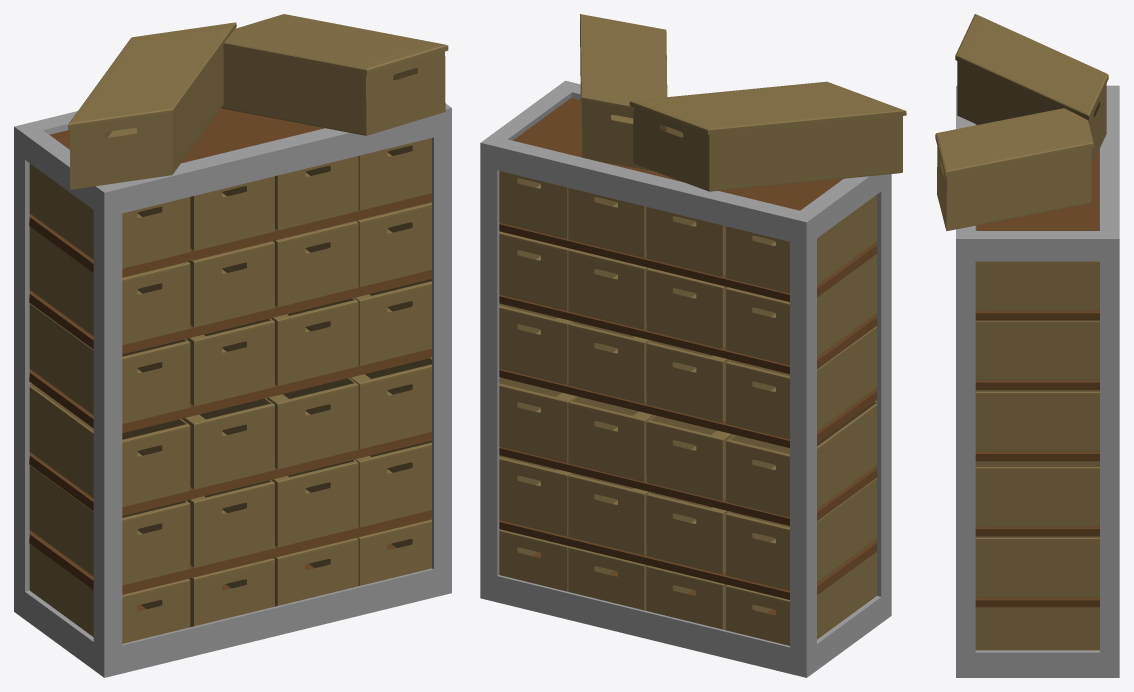
Rendered from shelf.fbx.
The picture shows the model from 3 angles, left to right: view 1: azimuth 30°, elevation 25°; view 2: azimuth 150°, elevation 25°; view 3: azimuth 270°, elevation 25°; orthographic projection. The views are drawn at different scales.
Parts seen in each view (by area): view 1: Rack, Box.025, Box.024, Box.004, Box.012, Box.008, Box.016, Box.020, Box, Box.005, Box.006, Box.013 (+21 smaller); view 2: Rack, Box.024, Box.025, Box.004, Box.012, Box.008, Box.016, Box.020, Box, Box.005, Box.006, Box.013 (+21 smaller); view 3: Rack, Box.025, Box.024, Box.007, Box.011, Box.015, Box.019, Box.023, Box.001, Shelf7, Shelf2, Shelf4 (+3 smaller).
Boxes of the visible parts, left/top/right/bottom form: Rack: left=14, top=103, right=451, bottom=677; Box.025: left=221, top=14, right=448, bottom=135; Box.024: left=68, top=22, right=236, bottom=189; Box.004: left=29, top=383, right=190, bottom=507; Box.012: left=29, top=303, right=190, bottom=423; Box.008: left=29, top=465, right=190, bottom=585; Box.016: left=29, top=226, right=190, bottom=345; Box.020: left=29, top=163, right=190, bottom=268; Box: left=29, top=544, right=190, bottom=643; Box.005: left=182, top=398, right=274, bottom=489; Box.006: left=266, top=378, right=358, bottom=469; Box.013: left=186, top=318, right=274, bottom=406; Rack: left=480, top=80, right=891, bottom=677; Box.024: left=629, top=81, right=906, bottom=191; Box.025: left=580, top=14, right=667, bottom=171; Box.004: left=726, top=401, right=876, bottom=517; Box.012: left=726, top=326, right=876, bottom=439; Box.008: left=726, top=478, right=876, bottom=590; Box.016: left=726, top=254, right=876, bottom=365; Box.020: left=726, top=195, right=876, bottom=293; Box: left=726, top=552, right=876, bottom=645; Box.005: left=646, top=415, right=733, bottom=501; Box.006: left=568, top=396, right=654, bottom=481; Box.013: left=646, top=340, right=729, bottom=422; Rack: left=956, top=85, right=1119, bottom=677; Box.025: left=935, top=108, right=1093, bottom=231; Box.024: left=955, top=14, right=1108, bottom=165; Box.007: left=975, top=461, right=1099, bottom=526; Box.011: left=975, top=536, right=1099, bottom=597; Box.015: left=975, top=390, right=1099, bottom=451; Box.019: left=975, top=320, right=1099, bottom=380; Box.023: left=975, top=261, right=1099, bottom=310; Box.001: left=975, top=607, right=1099, bottom=650; Shelf7: left=976, top=124, right=1099, bottom=230; Shelf2: left=975, top=597, right=1099, bottom=607; Shelf4: left=975, top=451, right=1099, bottom=461.
Size of the model in its own units: 149 by 212 by 70.48.
